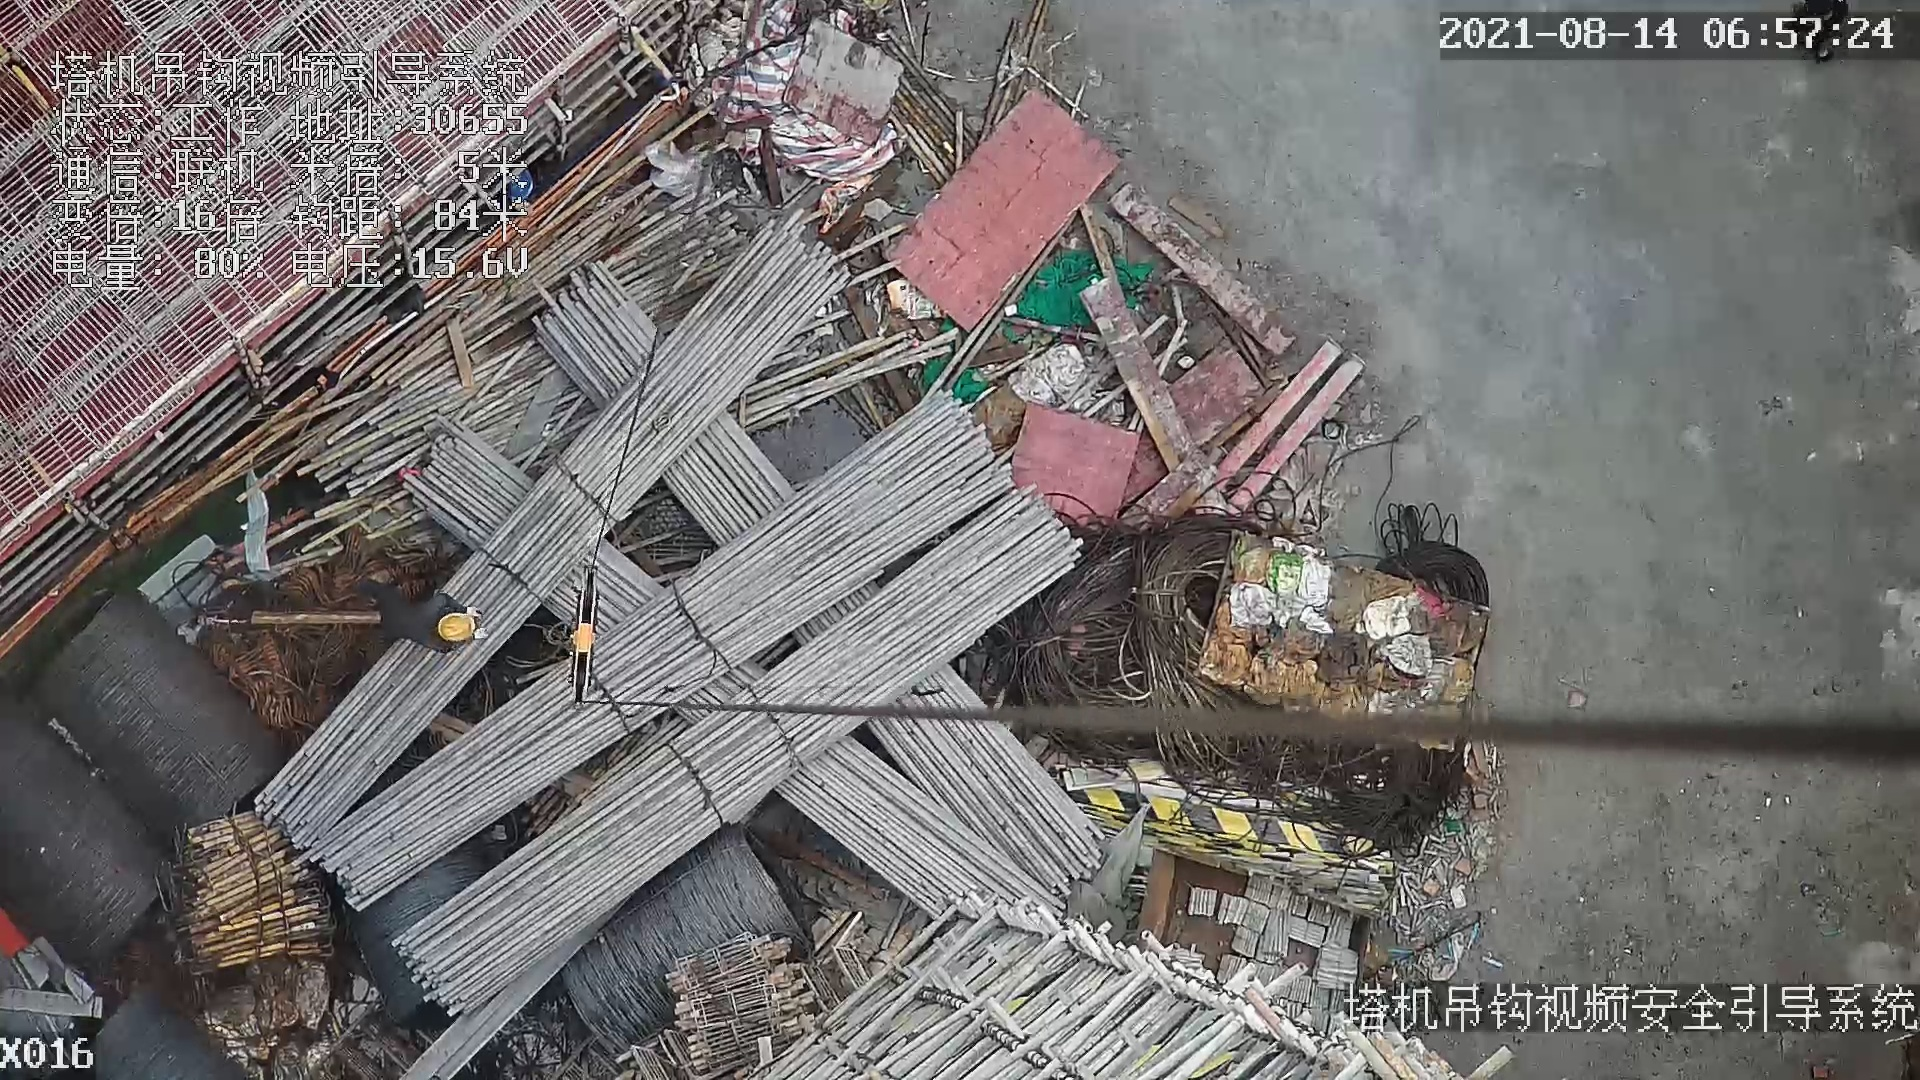helmet: (438, 614, 475, 643)
hook: (558, 565, 612, 704)
person: (351, 572, 491, 658)
rebar: (255, 219, 855, 847), (316, 387, 1012, 914), (397, 483, 1082, 1016), (771, 737, 1070, 930), (867, 668, 1105, 896)
wood: (181, 810, 333, 973)
